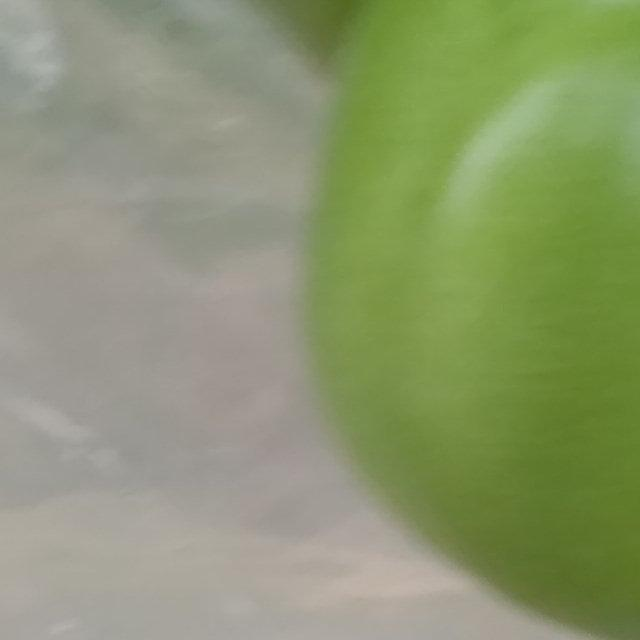tomato: (180, 0, 640, 640)
